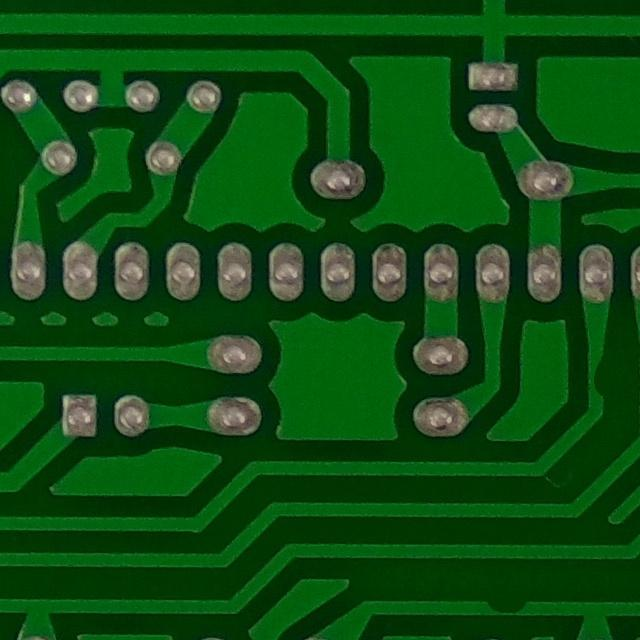mouse_bite: (469, 583, 546, 630), (578, 343, 622, 414)
